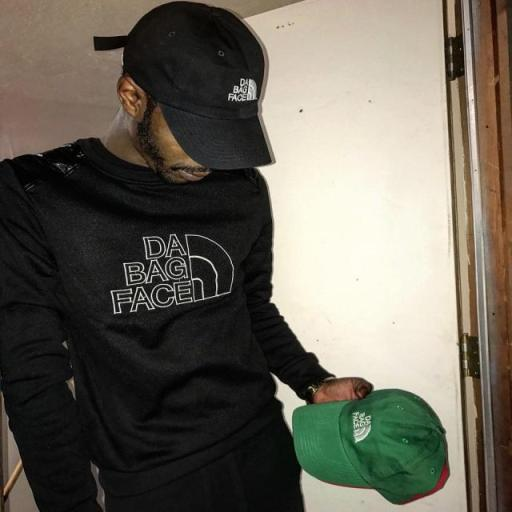The North Face: (108, 229, 237, 319), (226, 76, 260, 106), (350, 406, 374, 446)
